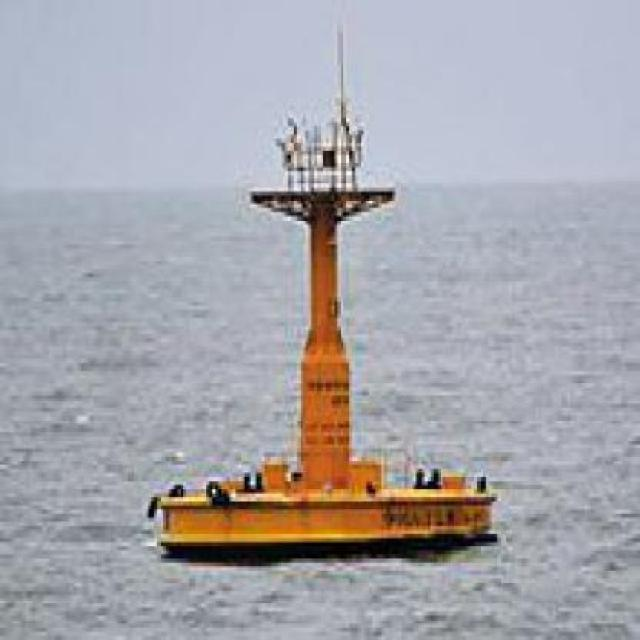buoy: (137, 13, 505, 572)
